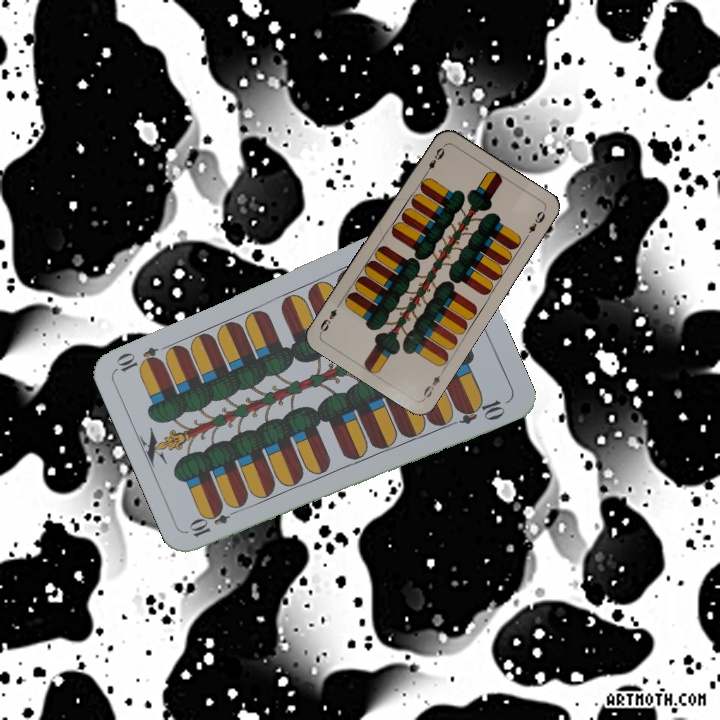E10: (185, 503, 242, 540)
E9: (419, 366, 447, 402), (420, 142, 447, 178)
